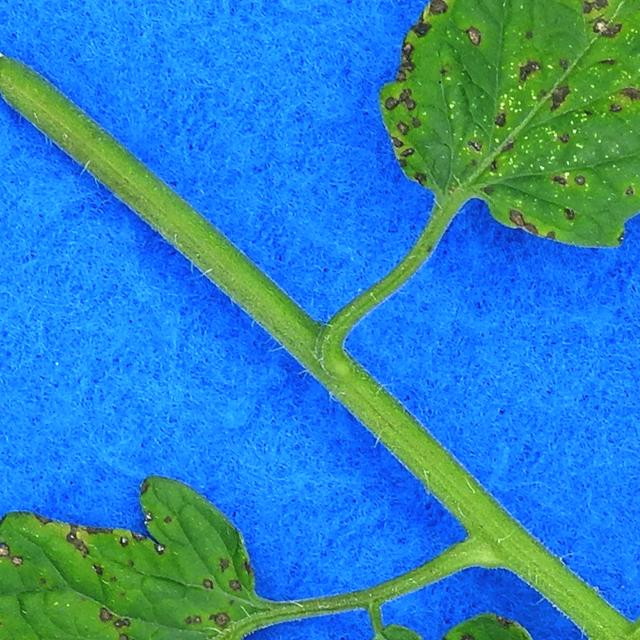Tomato Septoria leaf spot: (363, 0, 640, 289), (0, 439, 312, 640)
